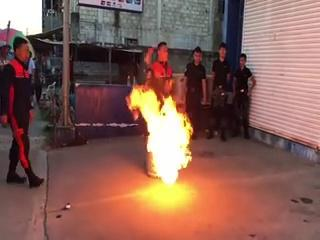Fire: (134, 75, 195, 192)
